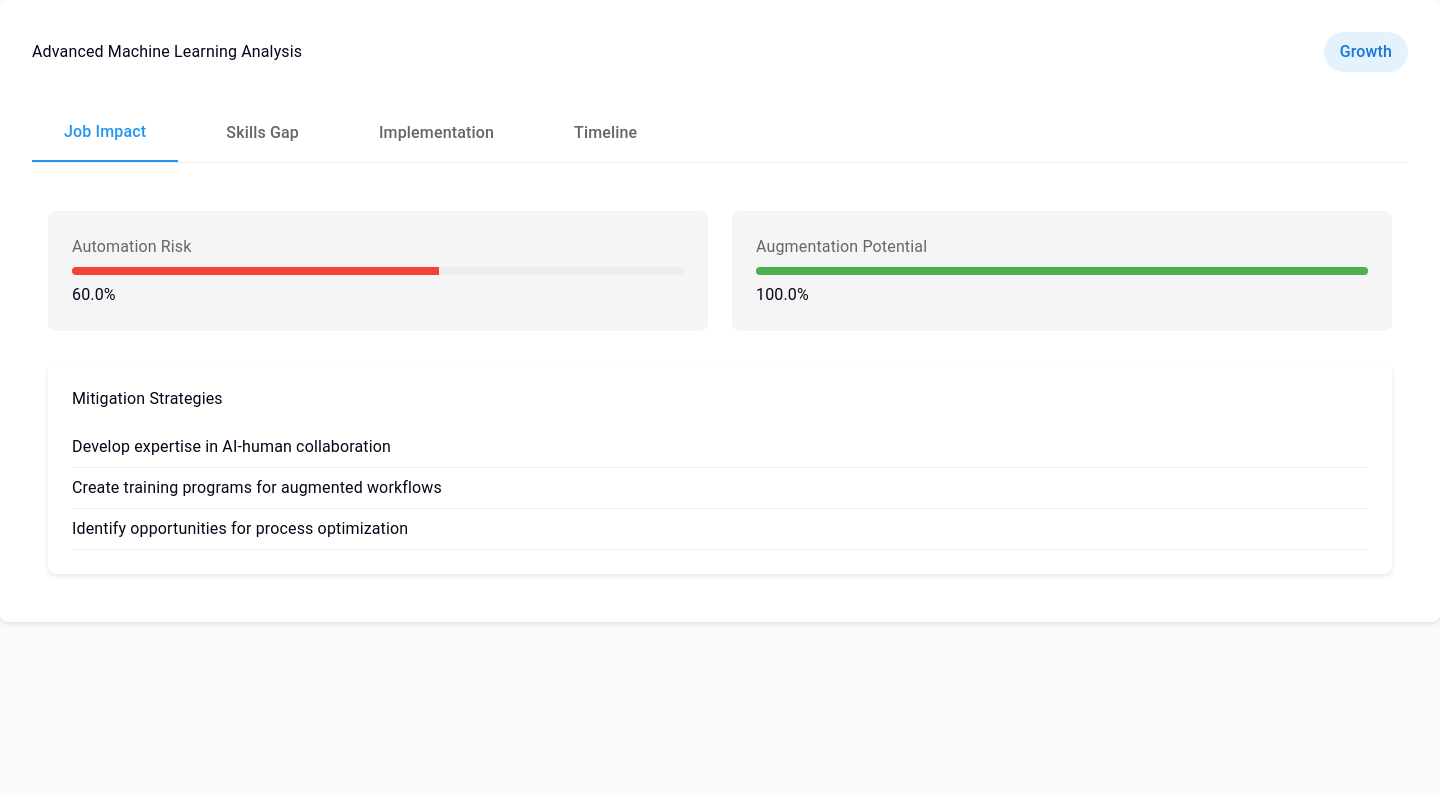
Test: EmergingTechAnalysis Component › displays timeline phases
Click the button "Timeline".
click(606, 133)  # box [542,104,669,162]
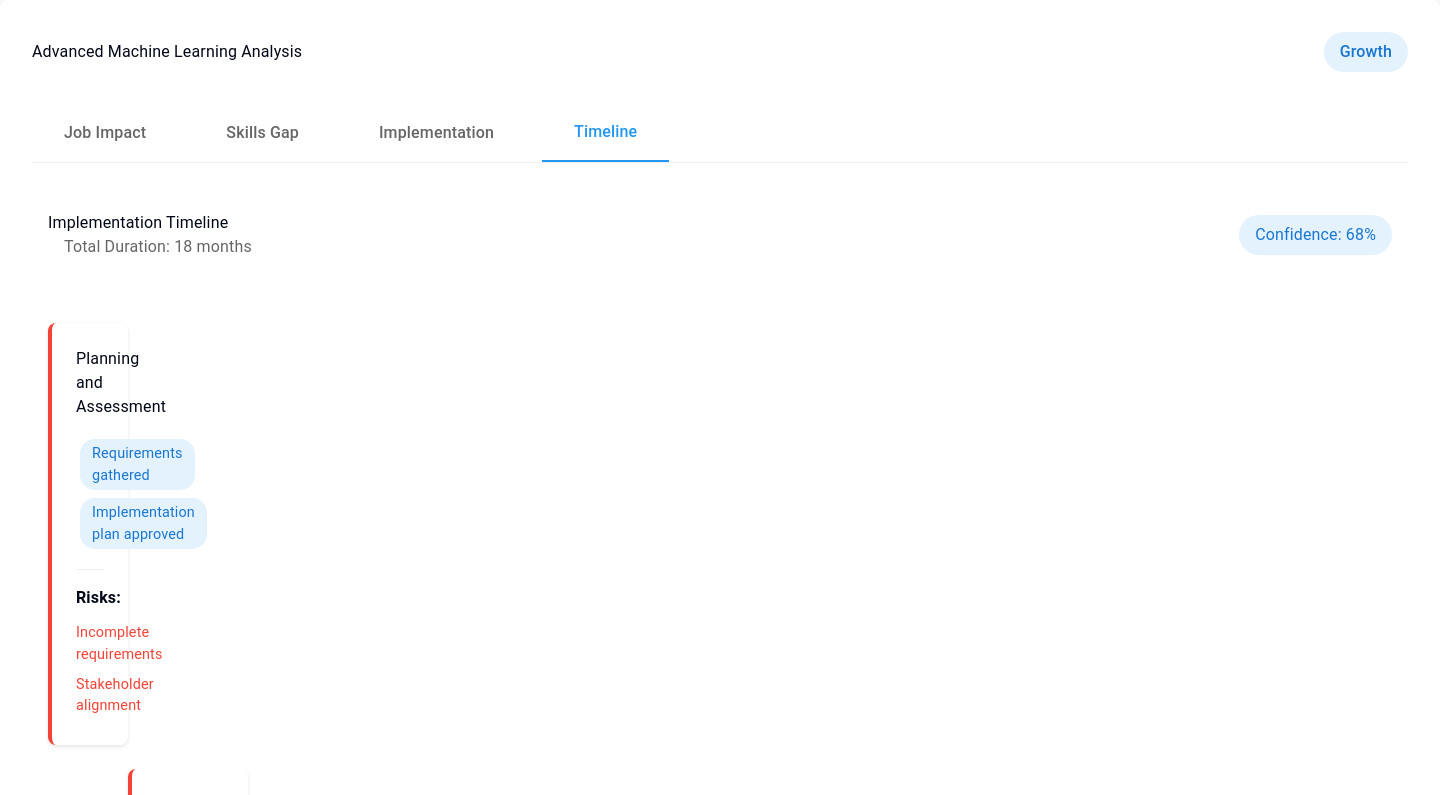
Expected: the heading "Implementation Timeline" is shown, [48,211,252,235]
Expected: the text "Total Duration: 18 months" is shown, [64,237,252,256]
